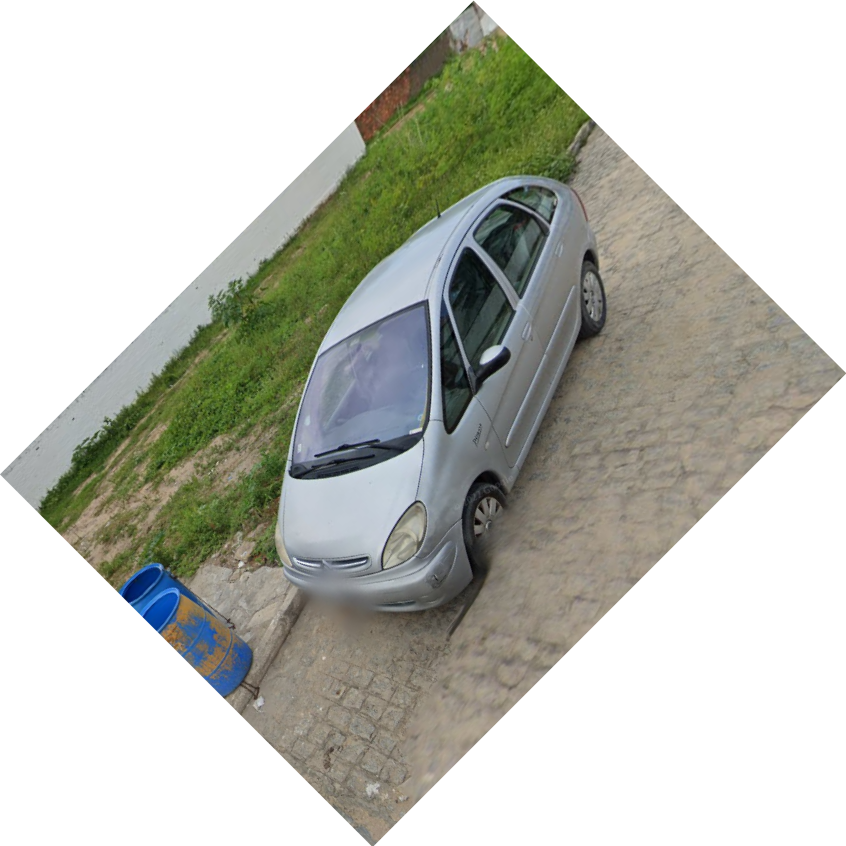car: (274, 172, 611, 617)
